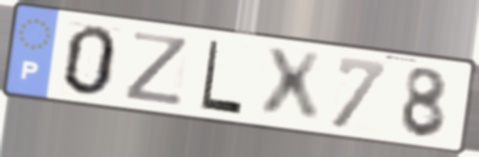0: (60, 23, 121, 99)
7: (334, 55, 390, 132)
8: (400, 65, 452, 141)
L: (197, 37, 246, 117)
X: (260, 46, 326, 125)
Z: (121, 29, 192, 108)
